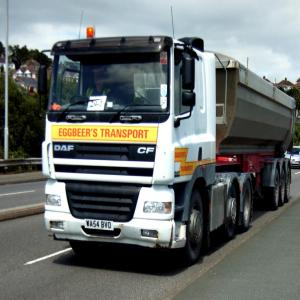Vehicle-registration-plate: (86, 220, 115, 231)
